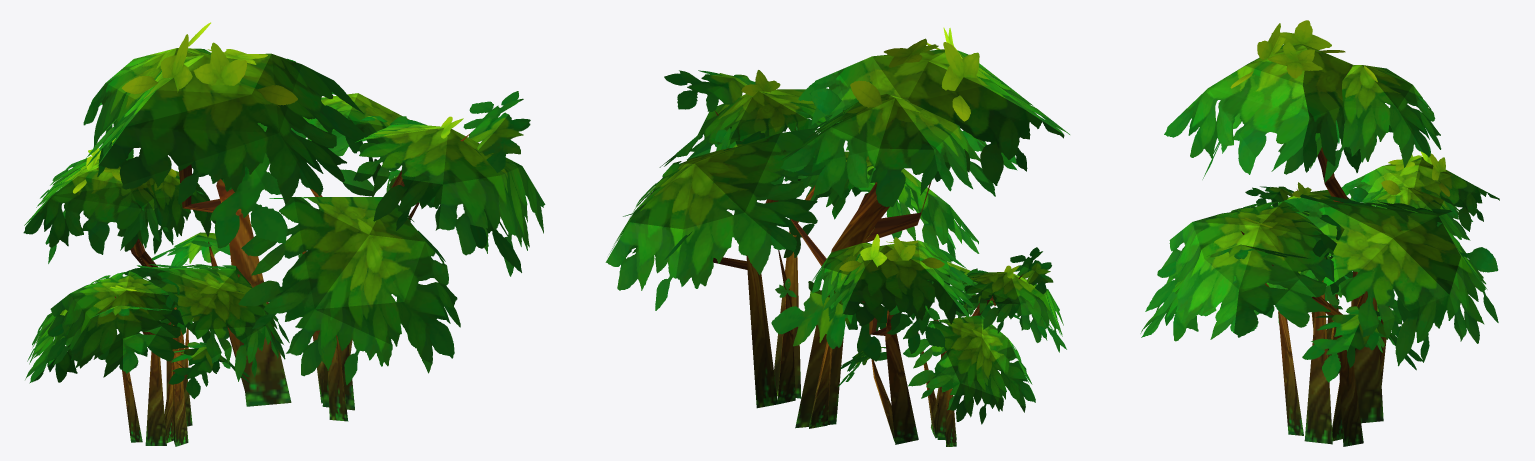
File: tree.obj
3 views of the same model, side by side, from view 1: azimuth 30°, elevation 25°; view 2: azimuth 150°, elevation 25°; view 3: azimuth 270°, elevation 25° (orthographic). The views are drawn at different scales.
Parts seen in each view (by area): view 1: poly26; view 2: poly26; view 3: poly26.
Part boxes in pixels (x1=…): poly26: x1=23, y1=22, x2=545, y2=446; poly26: x1=605, y1=27, x2=1069, y2=446; poly26: x1=1140, y1=20, x2=1499, y2=446.
Size of the model in its own units: 47.86 by 39.5 by 39.
